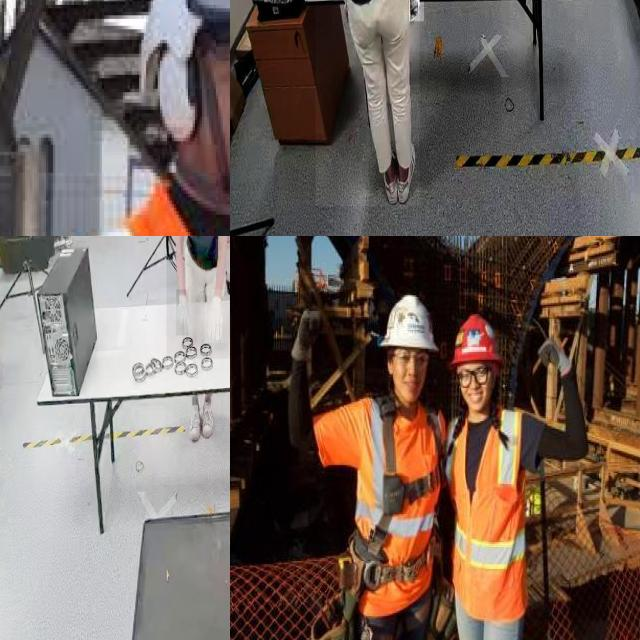Ear-protection: (146, 43, 204, 145)
Harness: (351, 396, 441, 591), (428, 413, 443, 452)
hand_glove: (204, 290, 230, 344), (176, 290, 189, 336), (409, 0, 424, 22)
head_helmet: (130, 0, 230, 57)
person: (74, 0, 230, 236), (315, 0, 420, 207), (166, 236, 230, 359)
shoes: (397, 139, 416, 206), (379, 145, 398, 208), (186, 400, 201, 444), (200, 399, 216, 438)
